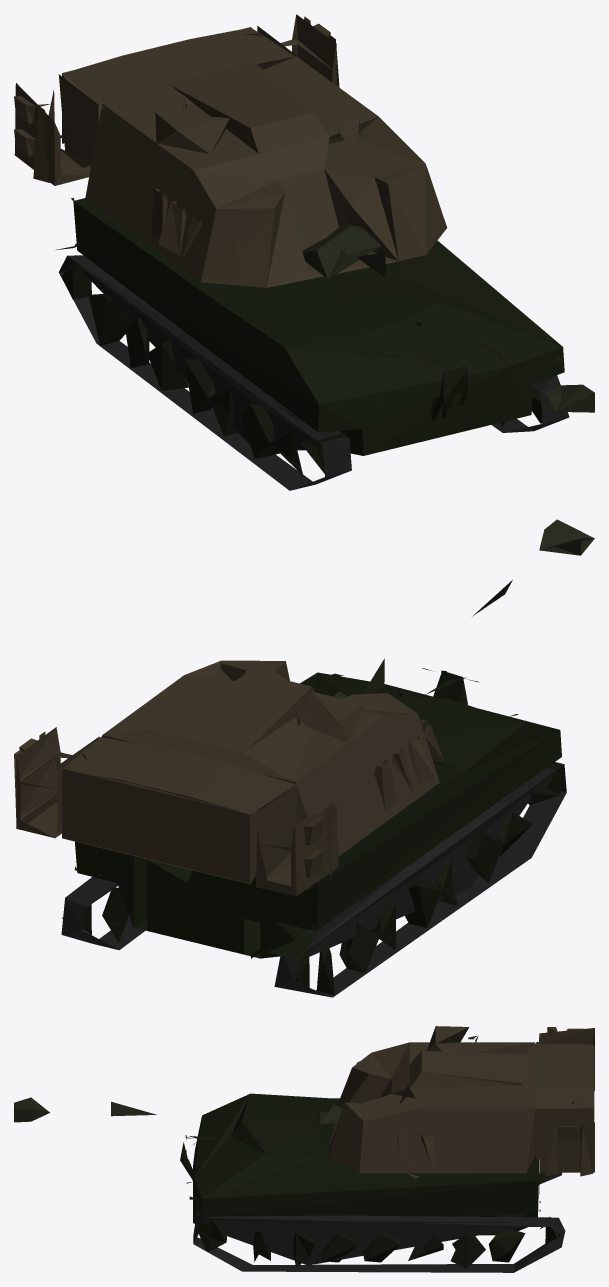
3 views of the same model, one above another, from view 1: azimuth 30°, elevation 25°; view 2: azimuth 150°, elevation 25°; view 3: azimuth 270°, elevation 25° (orthographic). The views are drawn at different scales.
Visible parts, largest first — view 1: g_cannonbase_m109a6_m284l52__M109A6_PaladinCannon_709_0; view 2: g_cannonbase_m109a6_m284l52__M109A6_PaladinCannon_709_0; view 3: g_cannonbase_m109a6_m284l52__M109A6_PaladinCannon_709_0.
Boxes of the visible parts, x1,y1,x2,y2 form: g_cannonbase_m109a6_m284l52__M109A6_PaladinCannon_709_0: (14,14,594,490); g_cannonbase_m109a6_m284l52__M109A6_PaladinCannon_709_0: (14,519,594,997); g_cannonbase_m109a6_m284l52__M109A6_PaladinCannon_709_0: (14,1026,594,1272).
Size of the model in its own units: 3.68 by 3.02 by 8.97.
